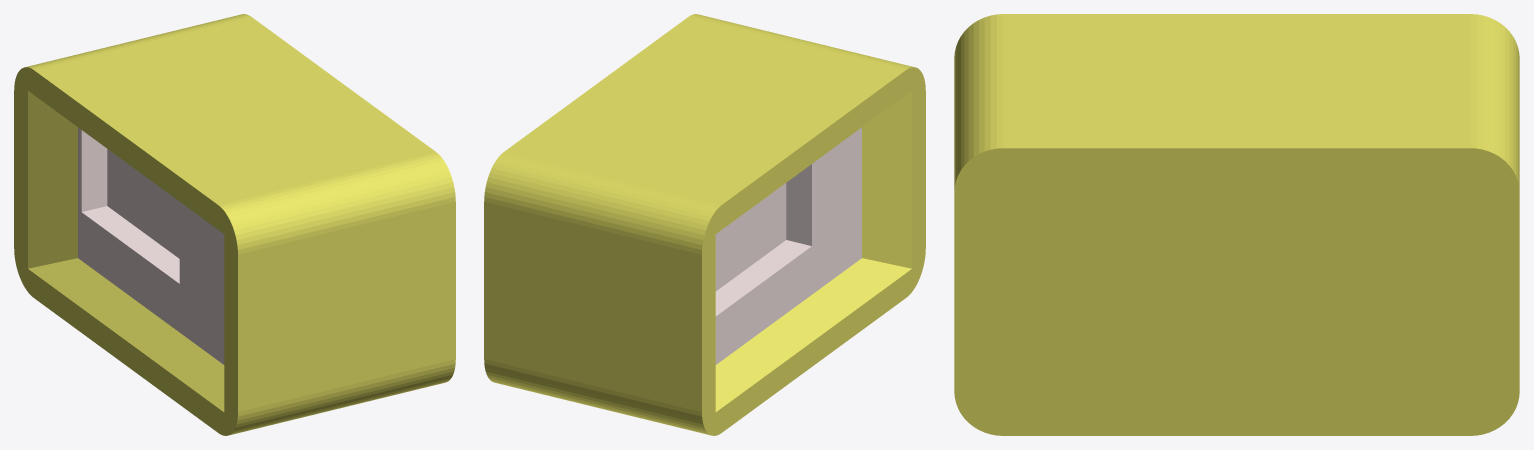
The model's file is Stall.glb.
The picture shows the model from 3 angles, left to right: view 1: azimuth 30°, elevation 25°; view 2: azimuth 150°, elevation 25°; view 3: azimuth 270°, elevation 25°; orthographic projection. The views are drawn at different scales.
Visible parts, largest first — view 1: Cube; view 2: Cube; view 3: Cube.
Boxes of the visible parts, left/top/right/bottom form: Cube: left=14, top=14, right=455, bottom=435; Cube: left=484, top=14, right=925, bottom=435; Cube: left=954, top=14, right=1519, bottom=435.
Bounding box in the file's own units: 6.96 × 6.96 × 12.4.
